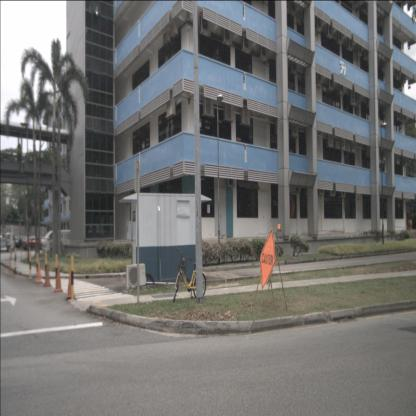cone: (66, 268, 75, 298), (54, 264, 63, 292), (43, 263, 52, 287), (36, 263, 42, 283)
